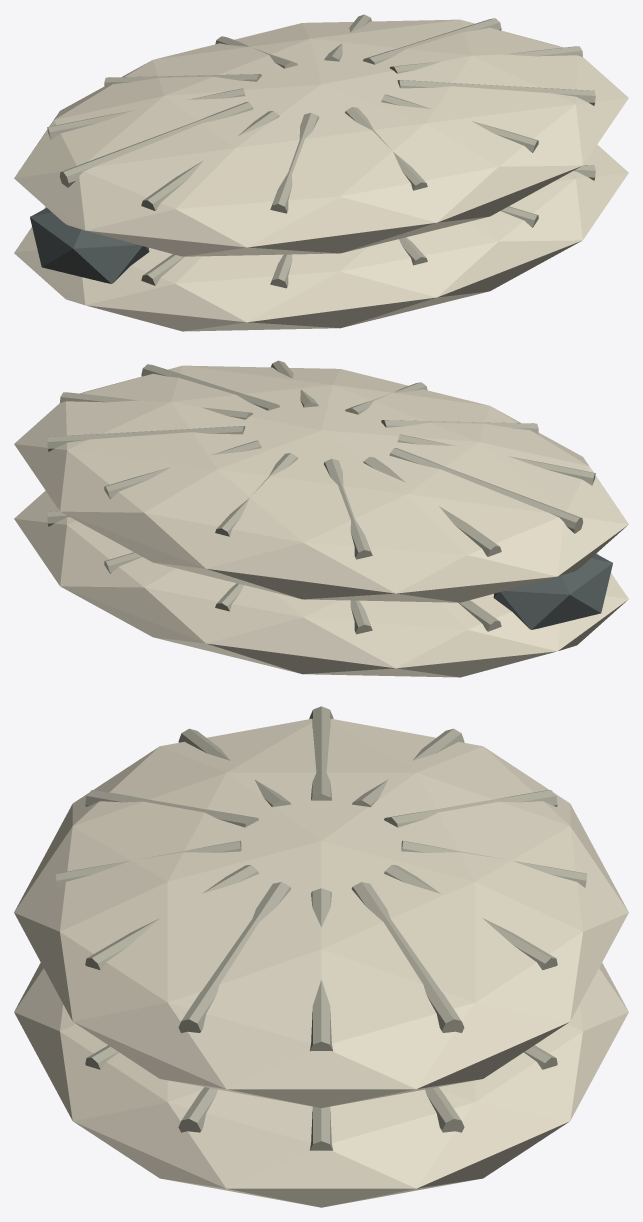
3 views of the same model, one above another, from view 1: azimuth 30°, elevation 25°; view 2: azimuth 150°, elevation 25°; view 3: azimuth 270°, elevation 25° (orthographic). The views are drawn at different scales.
Parts seen in each view (by area): view 1: CE-018 Ridged estuary oyster batched; view 2: CE-018 Ridged estuary oyster batched; view 3: CE-018 Ridged estuary oyster batched.
Boxes of the visible parts, x1=… form: CE-018 Ridged estuary oyster batched: x1=14, y1=14, x2=628, y2=331; CE-018 Ridged estuary oyster batched: x1=14, y1=360, x2=628, y2=677; CE-018 Ridged estuary oyster batched: x1=14, y1=706, x2=628, y2=1207.
Size of the model in its own units: 0.193 by 0.061 by 0.14.
